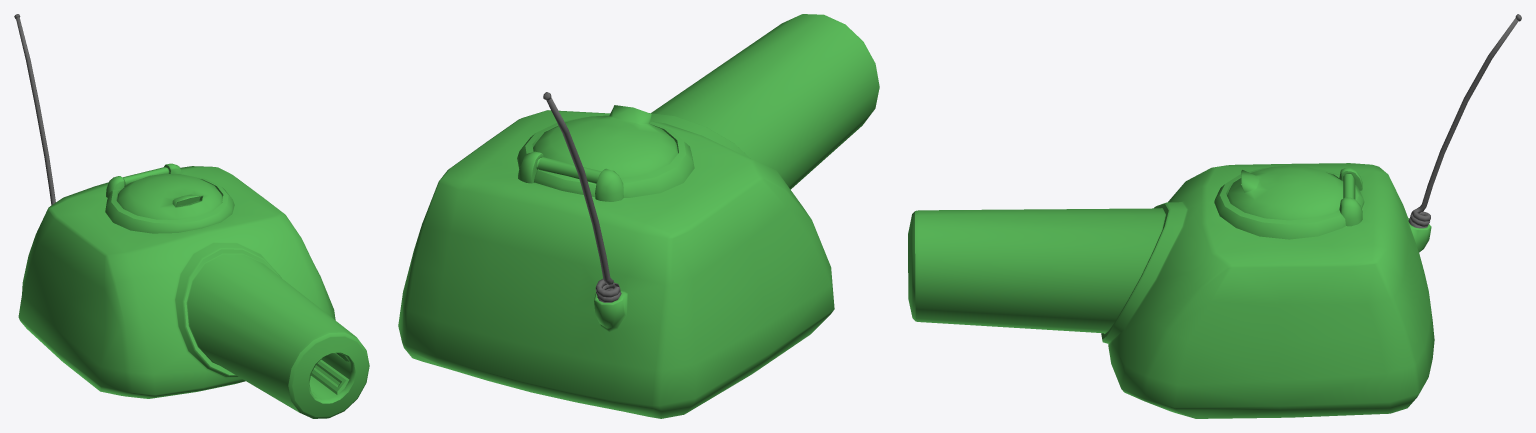
Rendered from TankTurret.fbx.
The picture shows the model from 3 angles, left to right: view 1: azimuth 30°, elevation 25°; view 2: azimuth 150°, elevation 25°; view 3: azimuth 270°, elevation 25°; orthographic projection. The views are drawn at different scales.
Visible parts, largest first — view 1: TankTurret; view 2: TankTurret; view 3: TankTurret.
Part boxes in pixels (bbox=[...]): TankTurret: bbox=[14, 14, 369, 418]; TankTurret: bbox=[398, 14, 879, 418]; TankTurret: bbox=[908, 14, 1521, 418].
Size of the model in its own units: 129 by 144 by 248.
